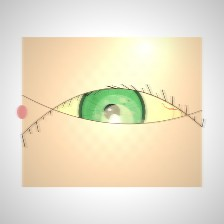corneal_ulcer: (88, 99, 146, 145)
